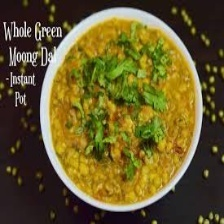dal: (39, 8, 201, 209)
